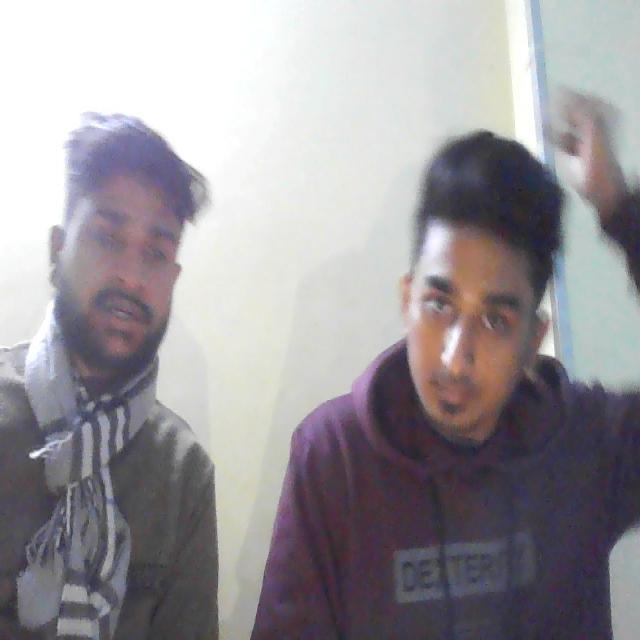real: (392, 156, 552, 459), (49, 111, 191, 380)
